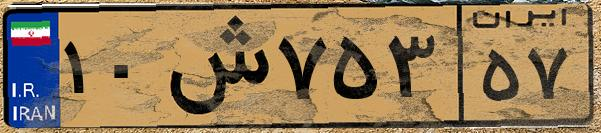0: (110, 28, 158, 98)
1: (57, 26, 110, 100)
3: (385, 28, 445, 110)
5: (330, 28, 385, 110), (475, 38, 525, 113)
7: (270, 28, 330, 110), (525, 38, 570, 115)
ش: (158, 12, 270, 120)
